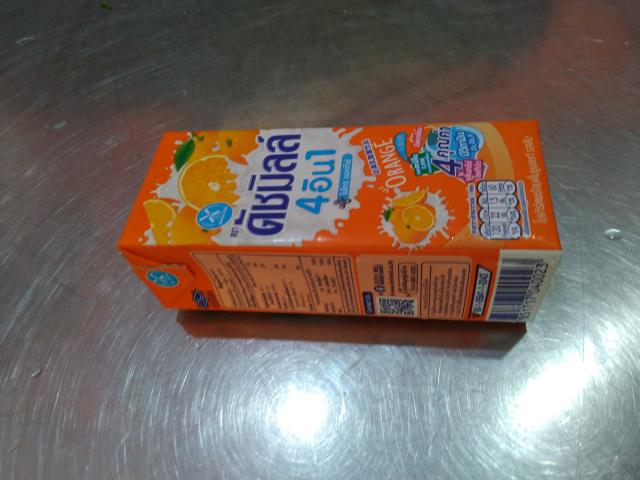drink_box: (118, 120, 562, 322)
